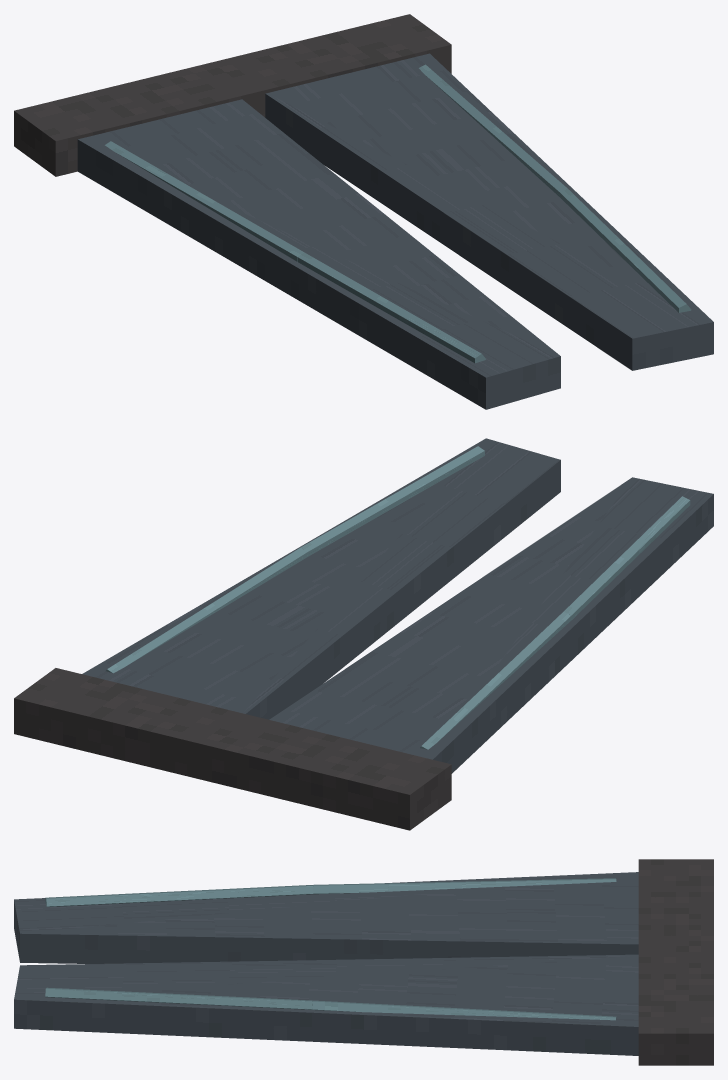
Rendered from wetsuit_pants.glb.
The picture shows the model from 3 angles, top to bottom: view 1: azimuth 30°, elevation 25°; view 2: azimuth 150°, elevation 25°; view 3: azimuth 270°, elevation 25°; orthographic projection. The views are drawn at different scales.
Visible parts, largest first — view 1: block_trouser leg (×2), block_waist band, block_neoprene seam 1 (×2), block_neoprene seam 0 (×2); view 2: block_trouser leg (×2), block_waist band, block_neoprene seam 1 (×2), block_neoprene seam 0 (×2); view 3: block_trouser leg (×2), block_waist band, block_neoprene seam 1 (×2), block_neoprene seam 0 (×2).
Part boxes in pixels (x1,y1,x2,y2): block_trouser leg (×2): [77, 53, 713, 409]; block_waist band: [14, 14, 451, 176]; block_neoprene seam 1 (×2): [298, 189, 691, 363]; block_neoprene seam 0 (×2): [105, 64, 567, 261]; block_trouser leg (×2): [82, 438, 713, 773]; block_waist band: [14, 668, 451, 830]; block_neoprene seam 1 (×2): [301, 446, 690, 620]; block_neoprene seam 0 (×2): [106, 547, 571, 749]; block_trouser leg (×2): [14, 872, 638, 1055]; block_waist band: [638, 859, 713, 1065]; block_neoprene seam 1 (×2): [45, 885, 313, 1009]; block_neoprene seam 0 (×2): [312, 878, 616, 1020].
Bounding box in the file's own units: 0.4601 × 0.0441 × 0.781.
1 material, 1 textured.
